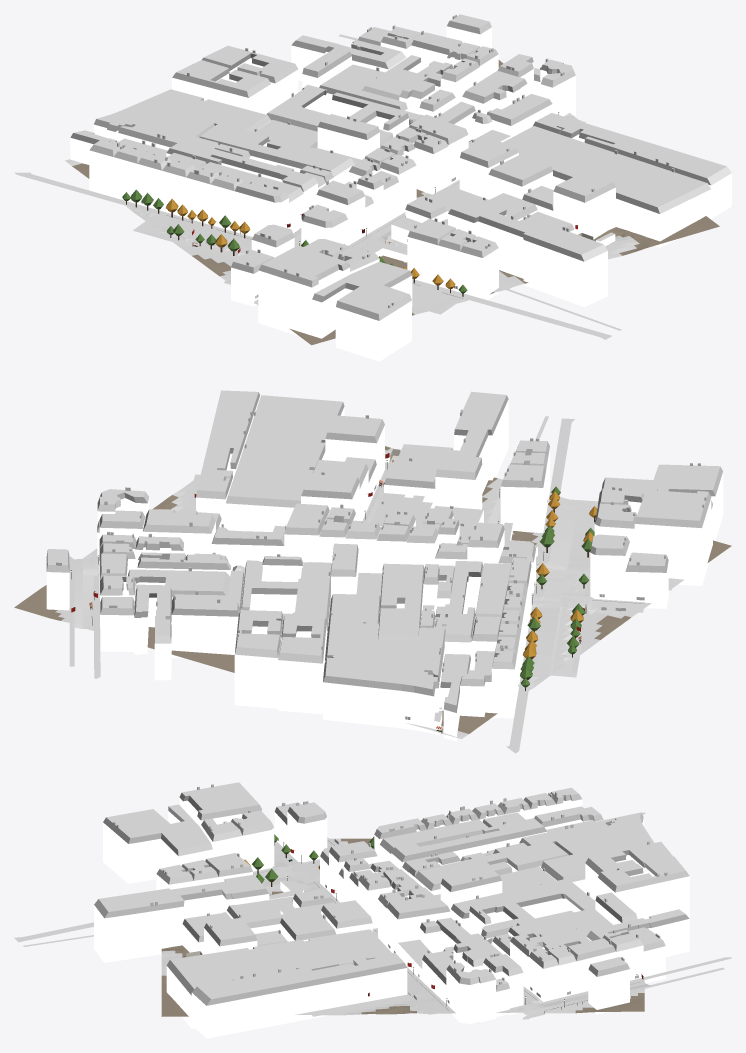
Rendered from zone_E2.glb.
The picture shows the model from 3 angles, top to bottom: view 1: azimuth 30°, elevation 25°; view 2: azimuth 150°, elevation 25°; view 3: azimuth 270°, elevation 25°; orthographic projection. The views are drawn at different scales.
Visible parts, largest first — view 1: zone_E2_batiments, zone_E2_sol_NOCOL, zone_E2_terrain, zone_E2_decor_NOCOL; view 2: zone_E2_batiments, zone_E2_sol_NOCOL, zone_E2_terrain, zone_E2_decor_NOCOL; view 3: zone_E2_batiments, zone_E2_sol_NOCOL, zone_E2_terrain, zone_E2_decor_NOCOL.
Boxes of the visible parts, left/top/right/bottom form: zone_E2_batiments: left=70, top=14, right=731, bottom=361; zone_E2_sol_NOCOL: left=14, top=34, right=624, bottom=339; zone_E2_terrain: left=65, top=60, right=719, bottom=345; zone_E2_decor_NOCOL: left=122, top=112, right=559, bottom=296; zone_E2_batiments: left=46, top=390, right=723, bottom=741; zone_E2_sol_NOCOL: left=69, top=416, right=675, bottom=753; zone_E2_terrain: left=14, top=446, right=731, bottom=738; zone_E2_decor_NOCOL: left=70, top=460, right=597, bottom=690; zone_E2_batiments: left=94, top=782, right=689, bottom=1038; zone_E2_sol_NOCOL: left=14, top=812, right=731, bottom=1019; zone_E2_terrain: left=161, top=838, right=644, bottom=1016; zone_E2_decor_NOCOL: left=184, top=834, right=637, bottom=1012.
Size of the model in its own units: 243 by 32.56 by 312.
